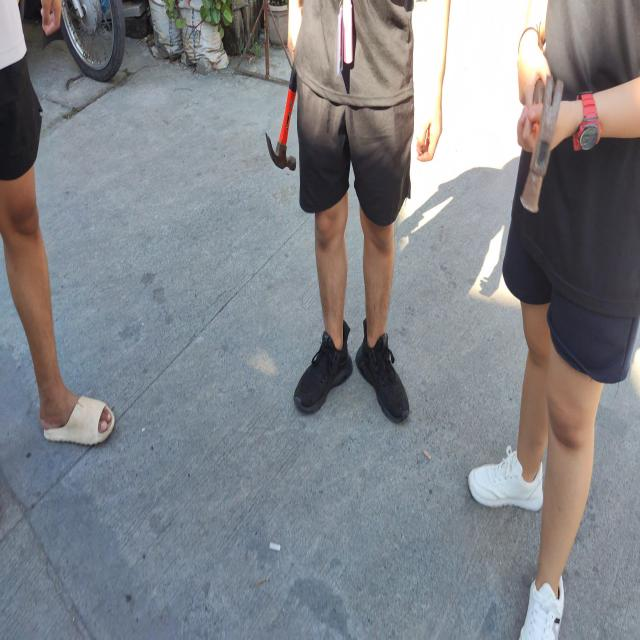hammer: (520, 75, 563, 212), (265, 52, 296, 171)
